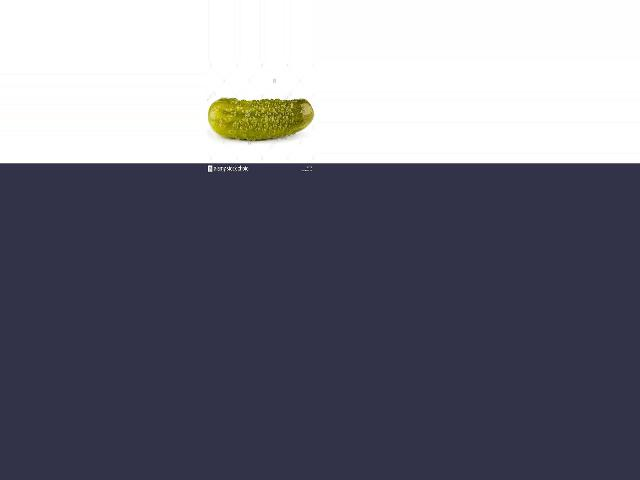cucumber: (208, 98, 315, 141)
